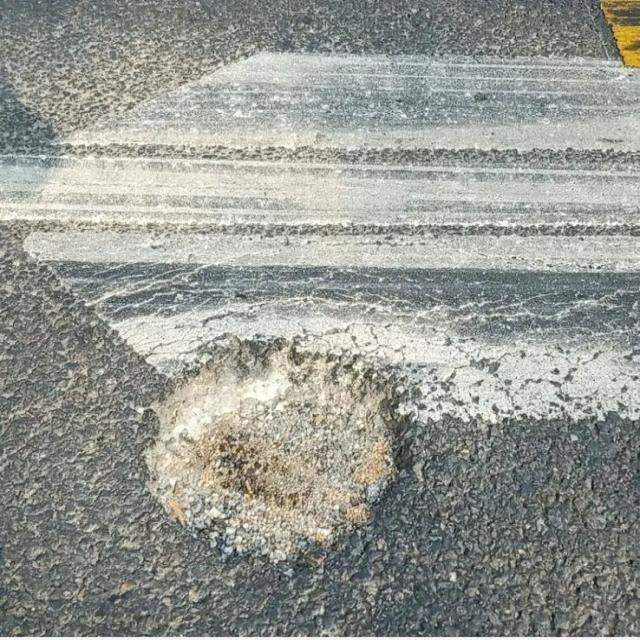Pothole: (143, 335, 402, 557)
